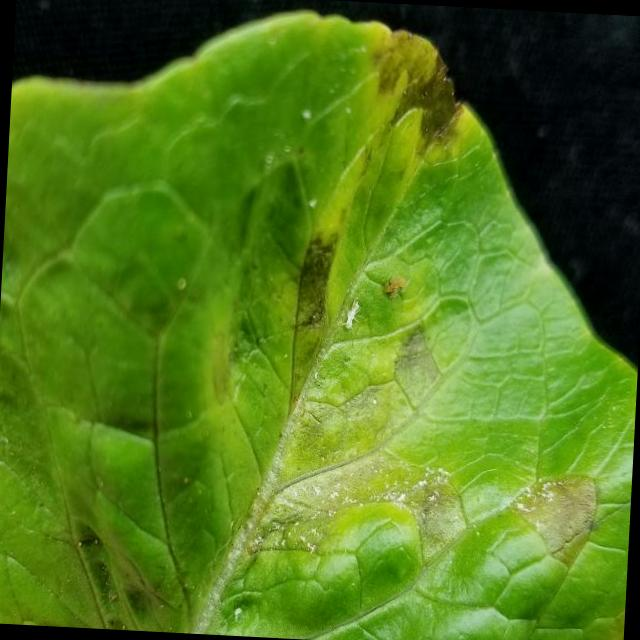Powdery_Mildew: (235, 377, 609, 595)
